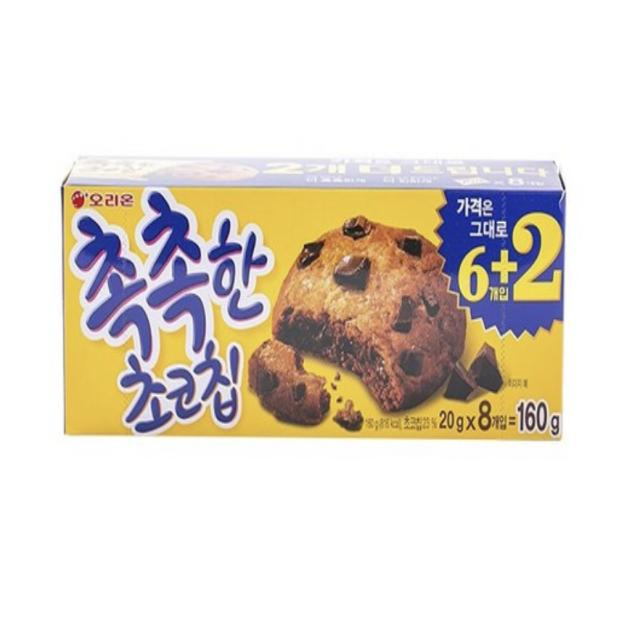biodegradable: (44, 134, 578, 471)
